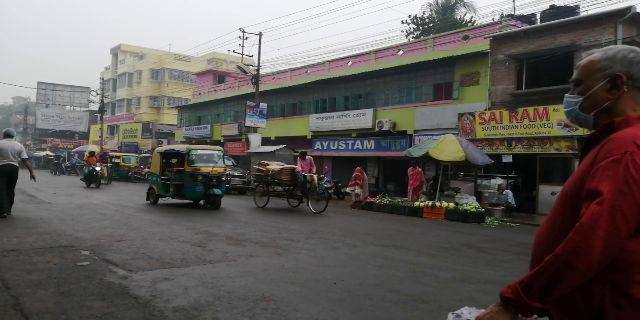Autorickshaw: (145, 147, 227, 209)
Motorbike: (80, 147, 104, 192)
Rickshaw: (252, 162, 332, 215)
